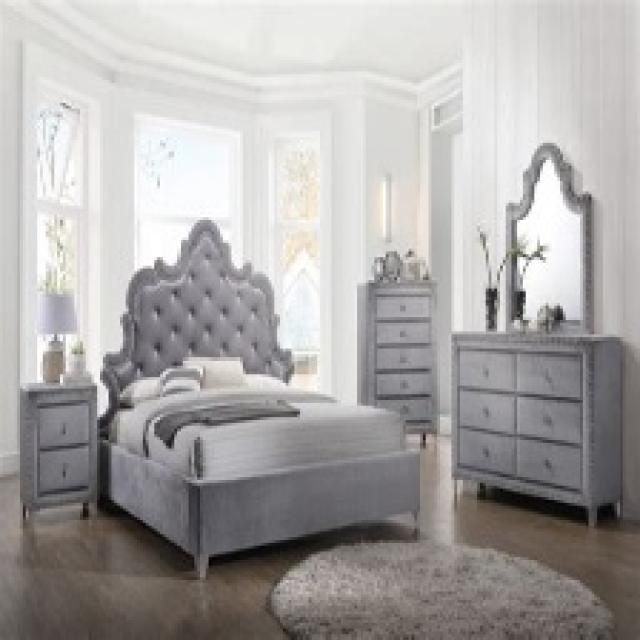Bed: (94, 217, 420, 577)
